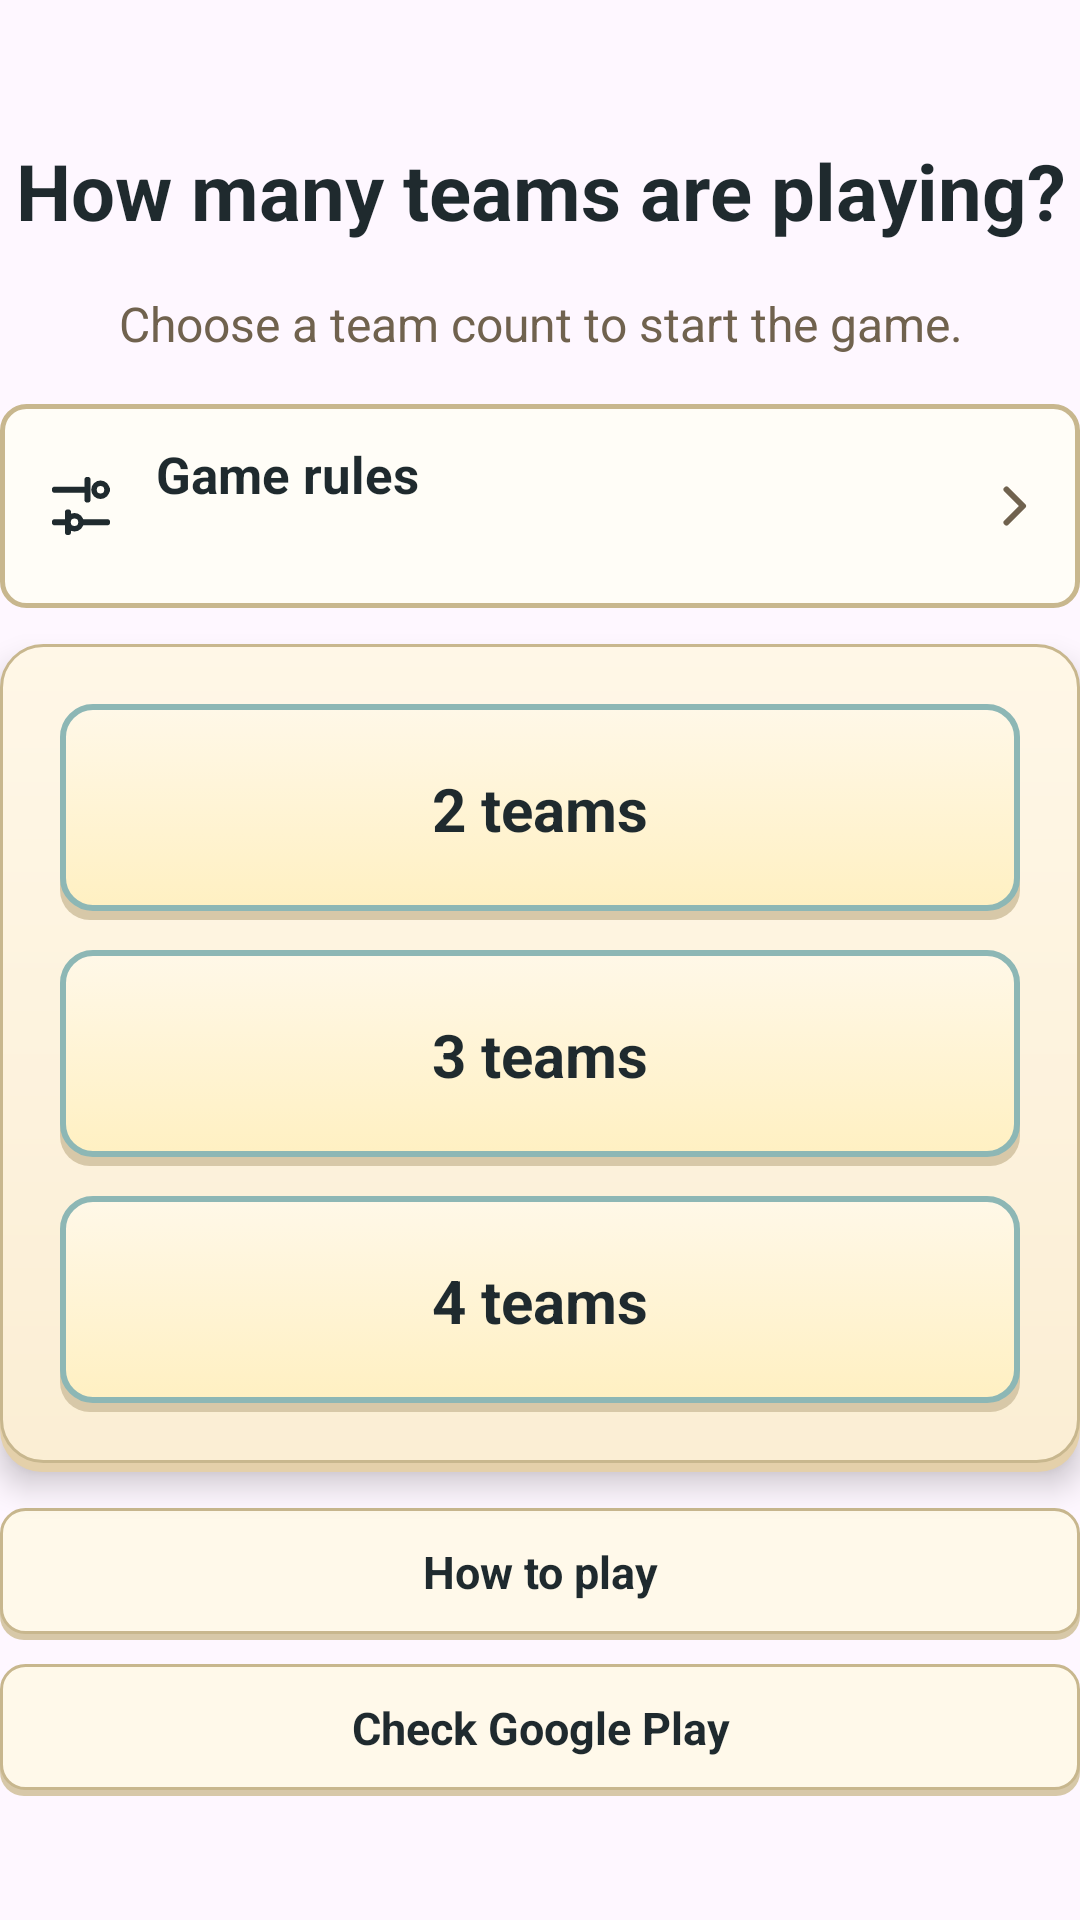

Locate icon controls on the screen. Image size 1080 × 1920, boxes as (x1, y1, x2, y2).
chevron right: (1003, 486, 1026, 526)
tune: (52, 477, 110, 535)
